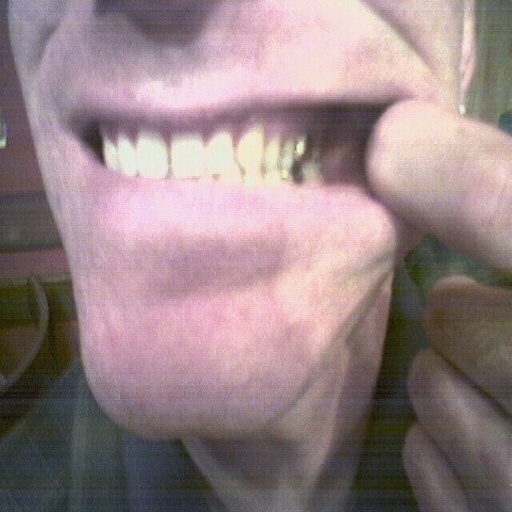hand: (364, 96, 511, 510)
